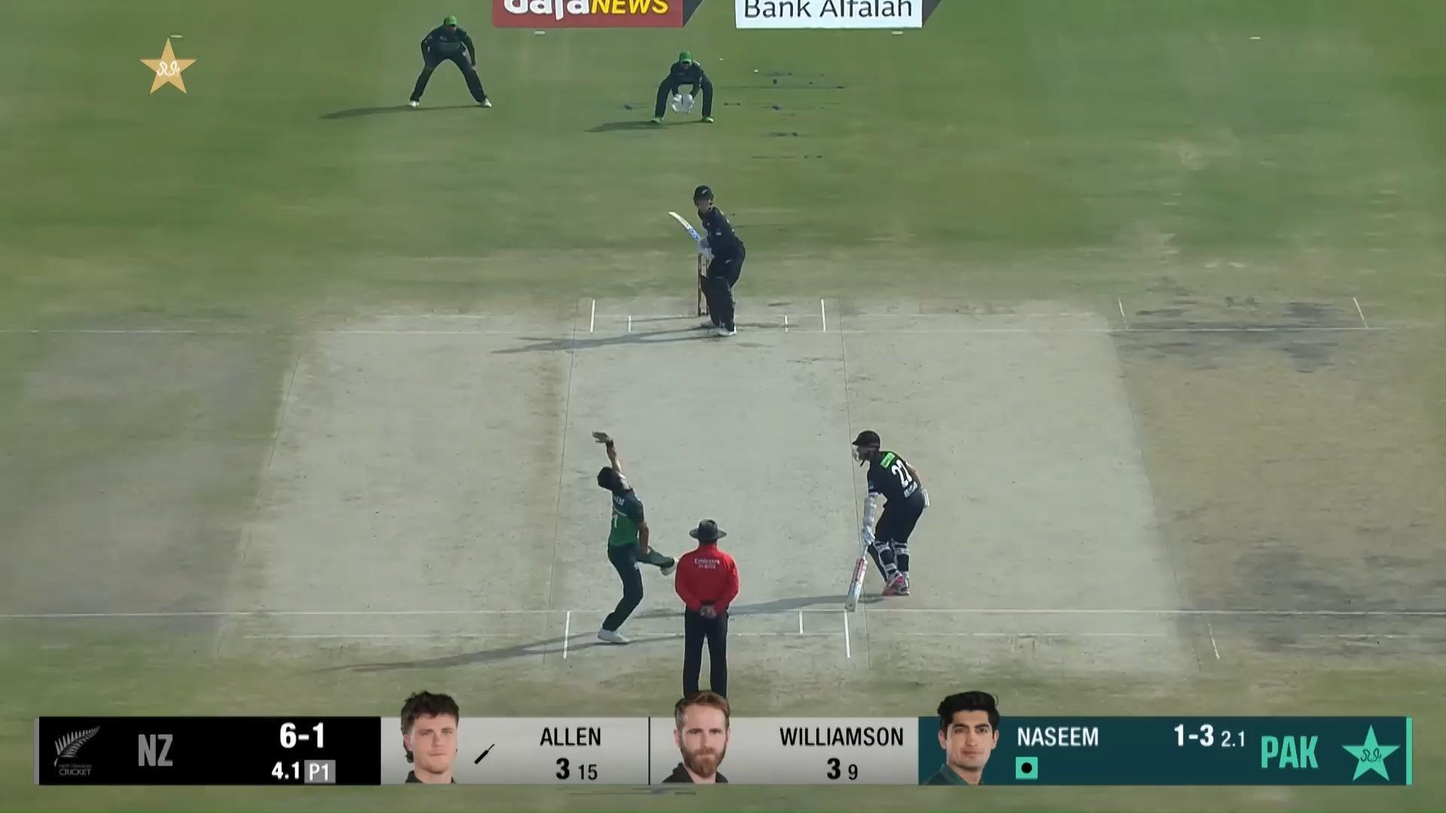BM 1: (667, 185, 747, 338)
BO: (592, 431, 678, 645)
